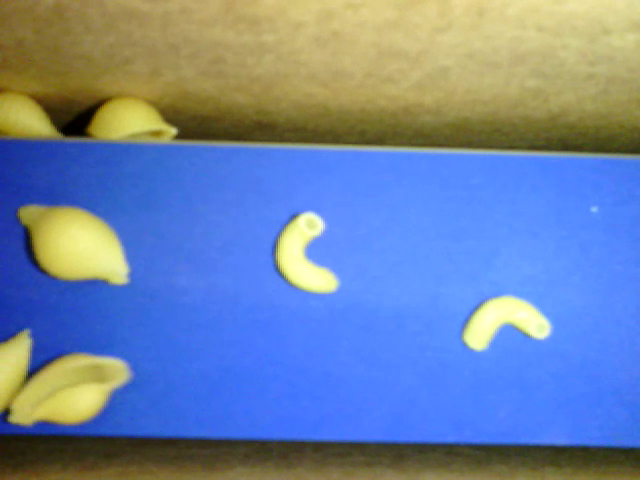elbow: (272, 208, 339, 293), (464, 293, 549, 356)
shell: (15, 203, 126, 292), (8, 351, 135, 424), (88, 94, 178, 141), (1, 85, 59, 142), (1, 326, 35, 418)
